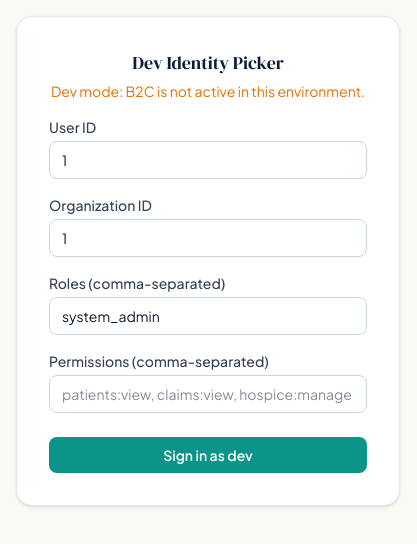
DevLoginForm › shows inline error when userId is negative
Step 1. Replace the text in the field labelled "User ID" with "-1" → (208, 160), box [49, 141, 367, 179]
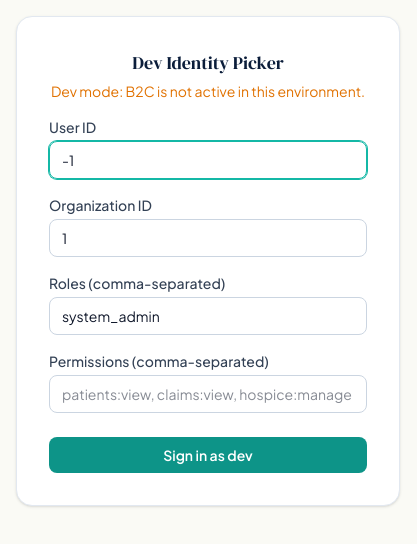
Step 2. Replace the text in the field labelled "Roles (comma-separated)" with "clinician" → (208, 316), box [49, 297, 367, 335]
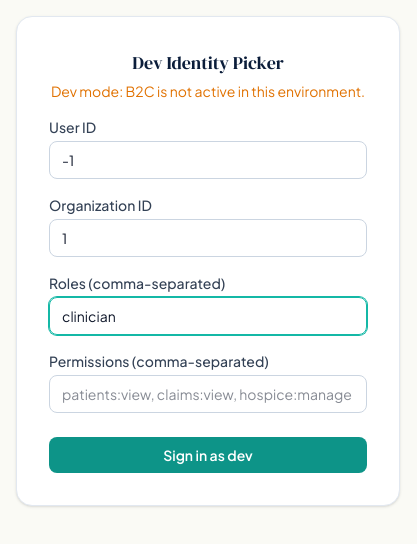
Step 3. Click the button "Sign in as dev" → (208, 455), box [49, 437, 367, 473]
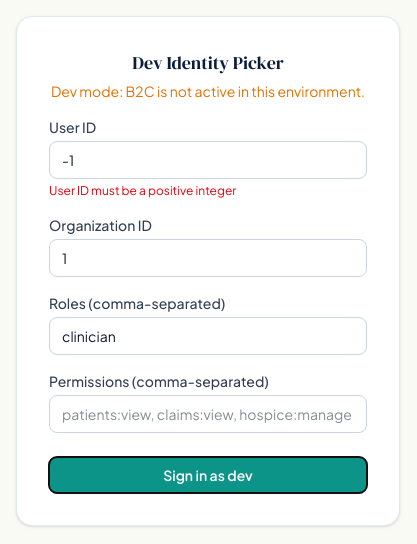
expect the text "User ID must be a positive integer" is shown: met, box [49, 183, 236, 198]
